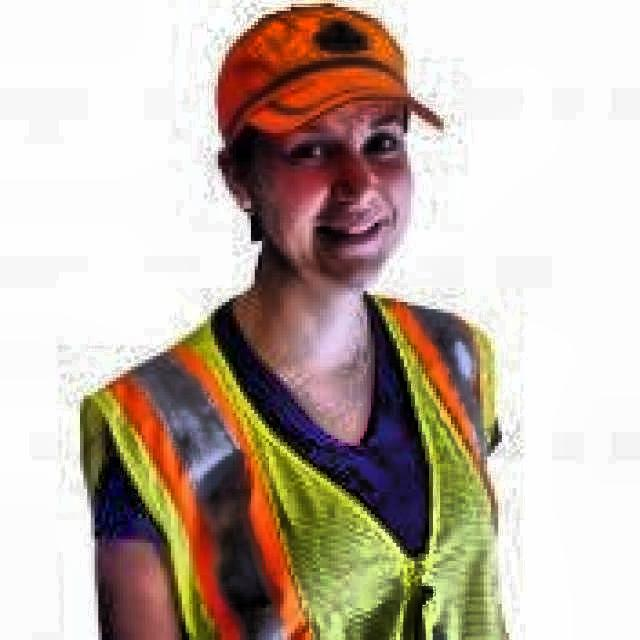safety_jacket: (80, 289, 520, 640)
